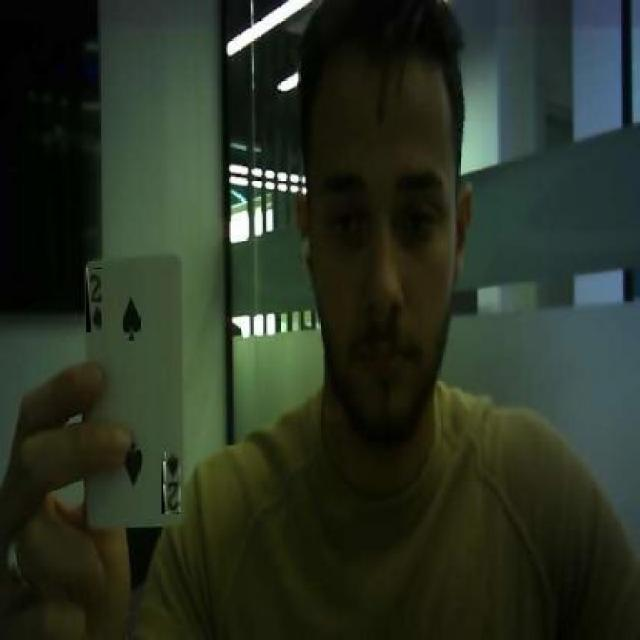2S: (162, 452, 180, 514), (86, 268, 102, 332)
